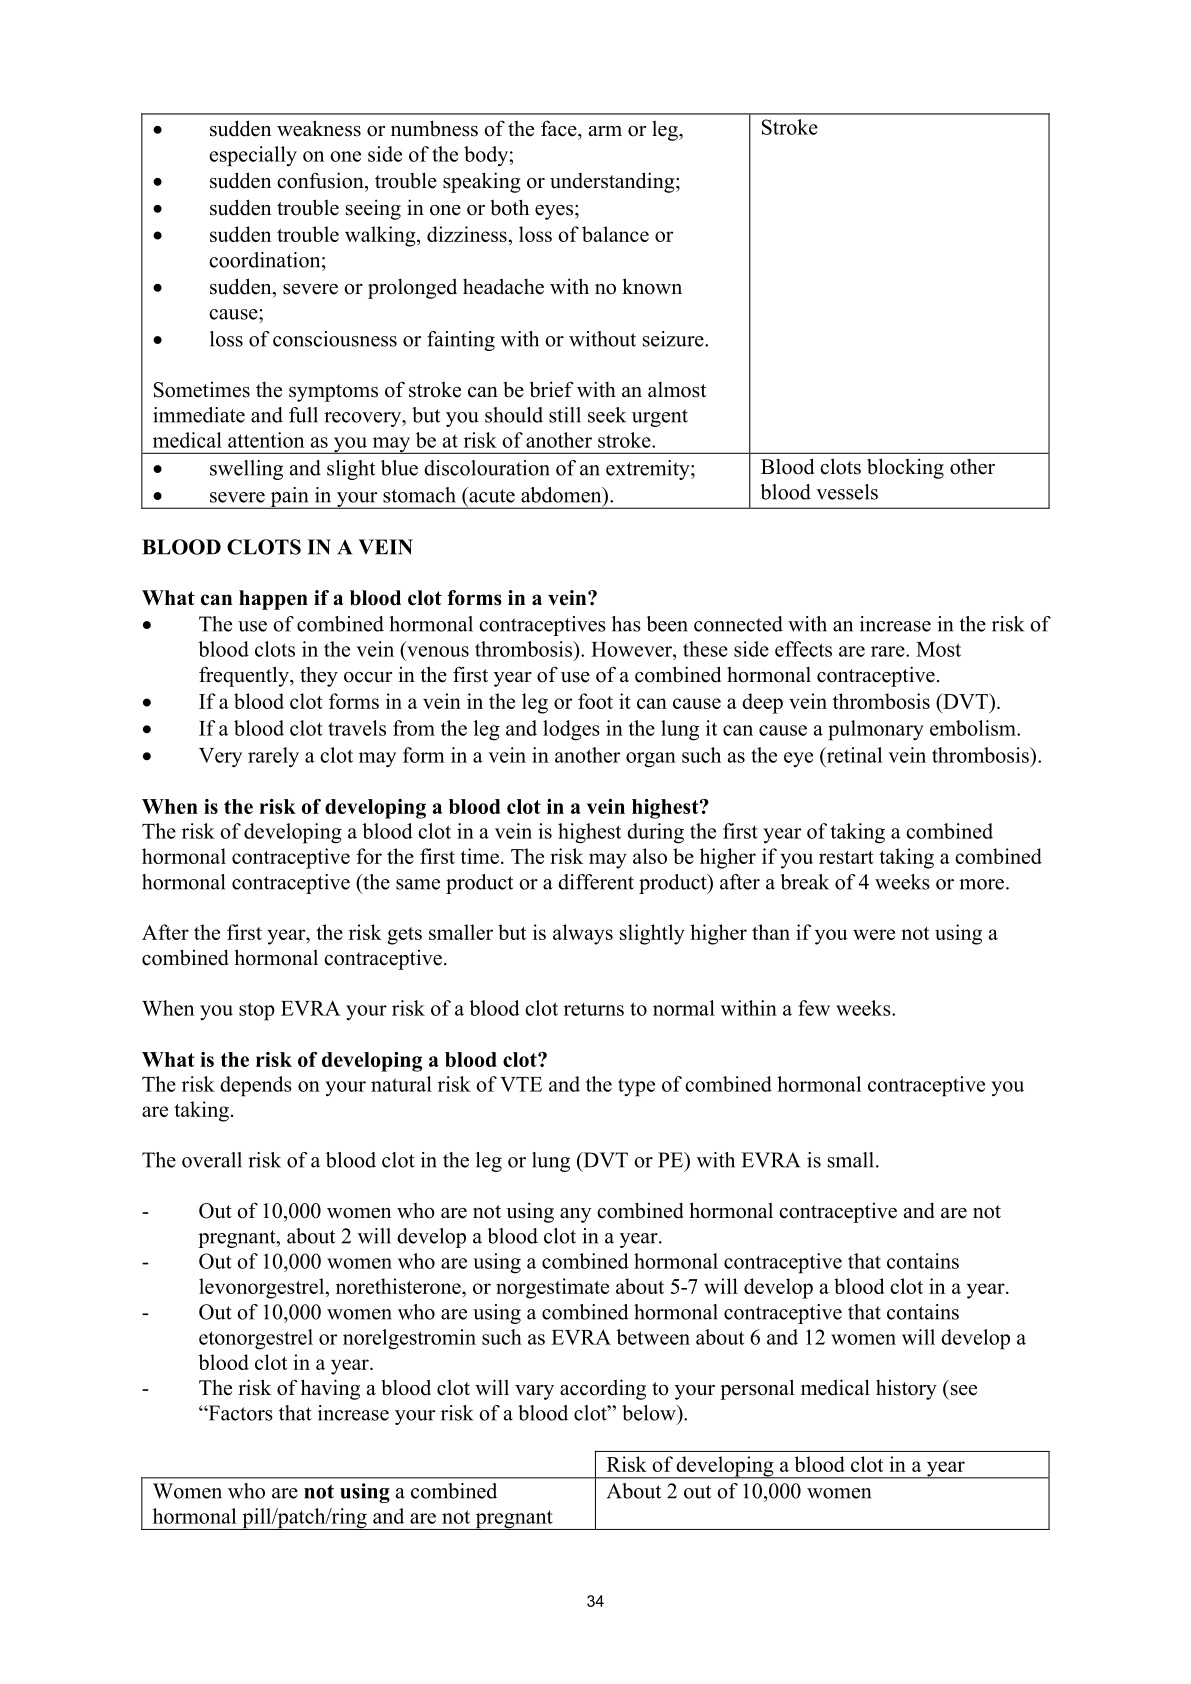full_lined: (140, 112, 1051, 510)
partial_lined: (140, 1450, 1051, 1531)
